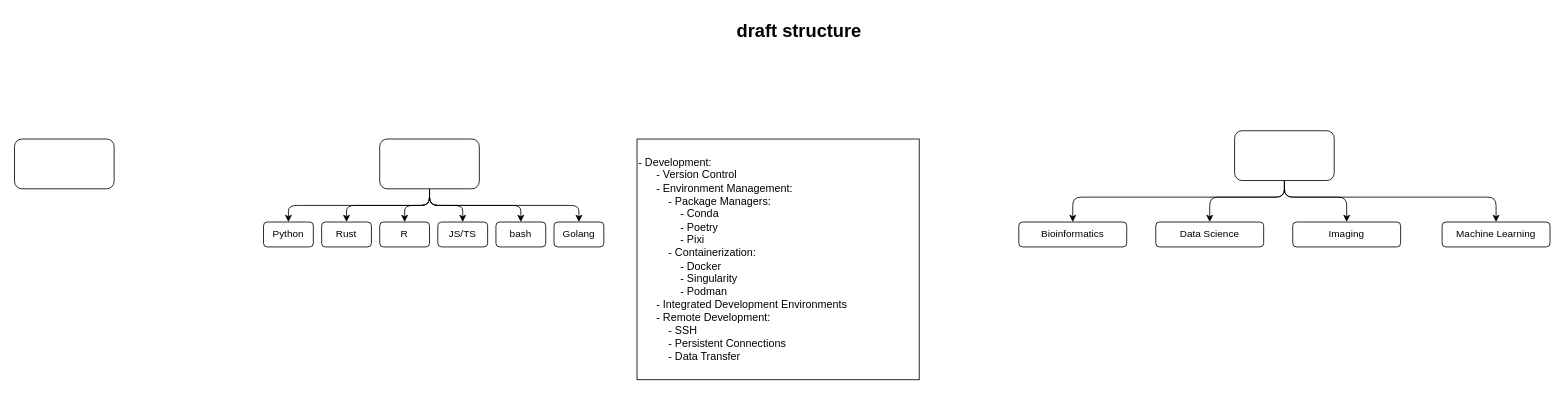
Image size: 1565x394. Some labels were removed from this diagram. Each missing label, with the centre of its shape:
Disciplines: (x=1284, y=155)
Languages: (x=429, y=163)
Onboarding: (x=64, y=163)
